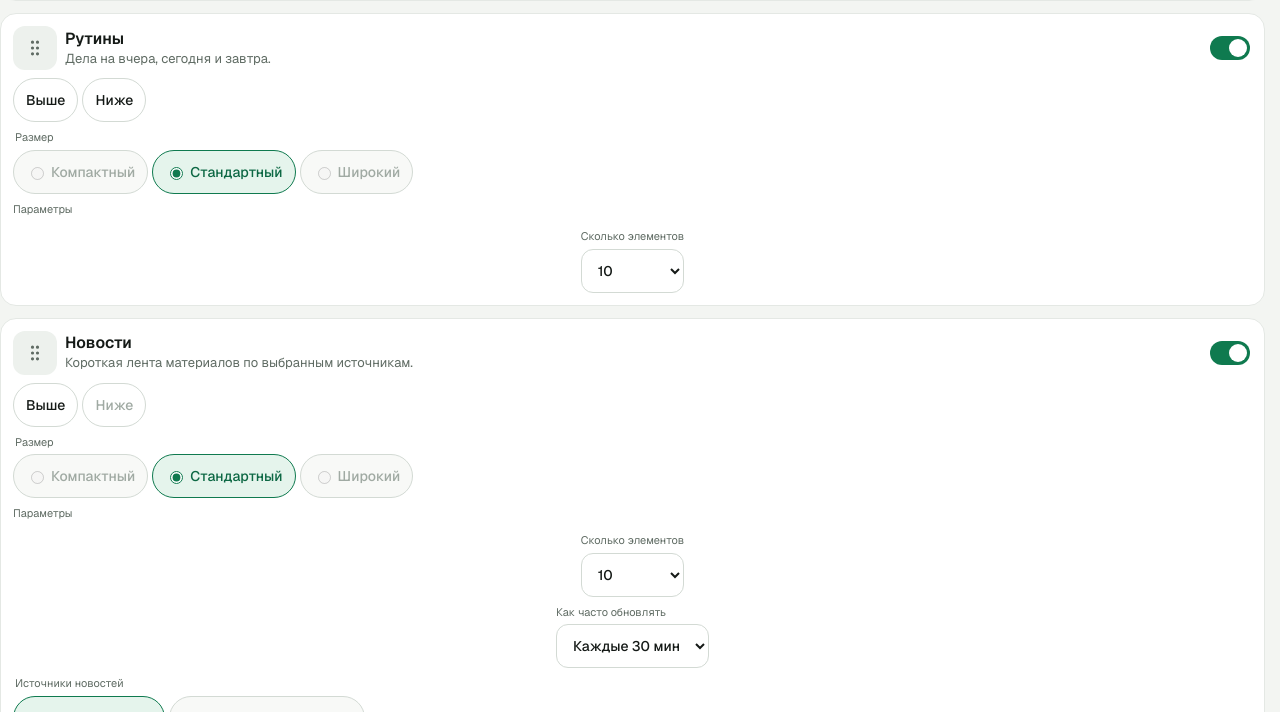
Test: WidgetEditor › возвращает настройки только после подтверждения
(page scrolled)
Click the switch named "Показывать «Новости»": x=1230, y=353 [1210,341,1250,365]
(page scrolled)
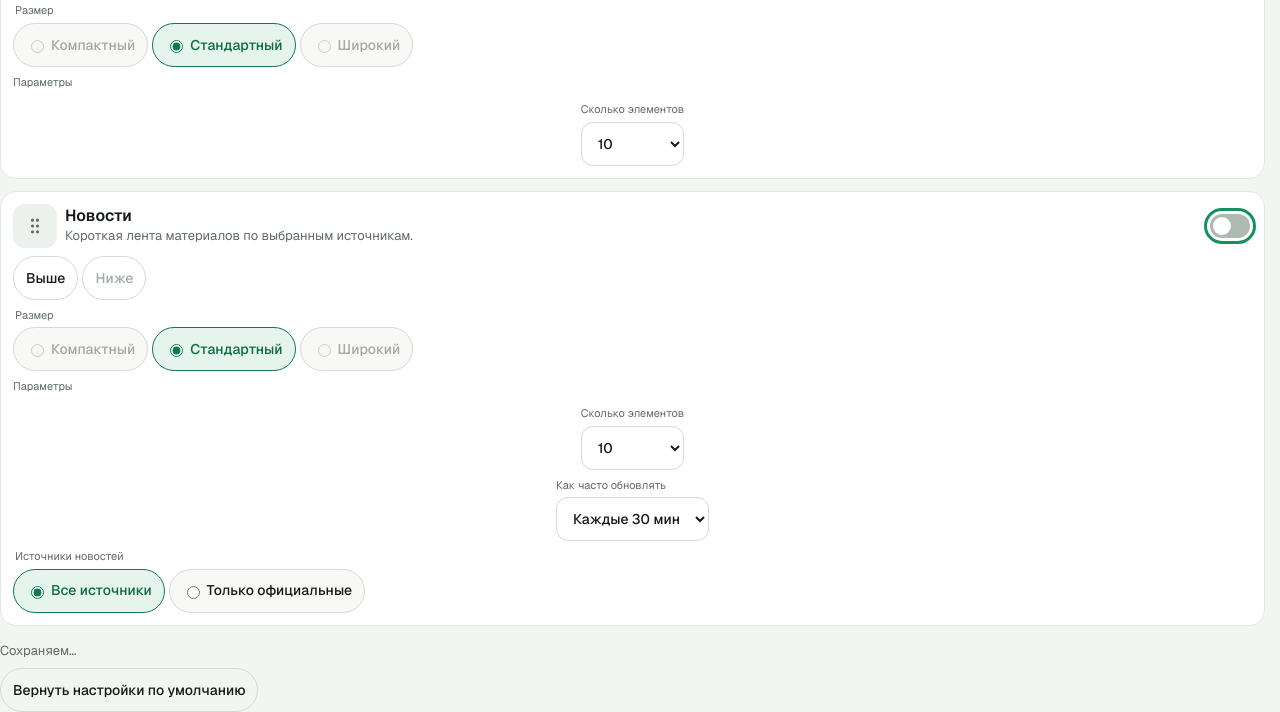
Click the button "Вернуть настройки по умолчанию": x=129, y=690 [0,668,258,711]
(page scrolled)
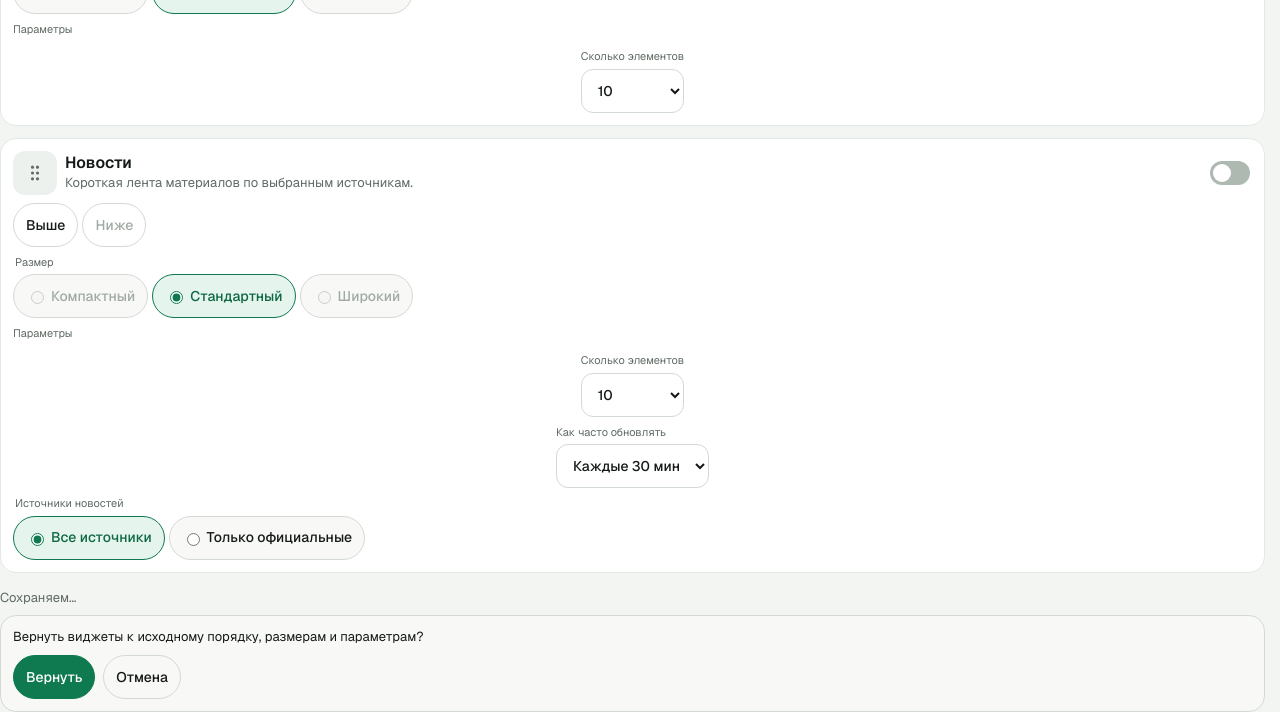
Expected: the switch named "Показывать «Новости»" is not checked, [1210,161,1250,185]
Expected: the dialog shows "Вернуть виджеты к исходному порядку", [13,628,424,645]
Click the button "Вернуть": x=54, y=677 [13,655,95,699]
(page scrolled)
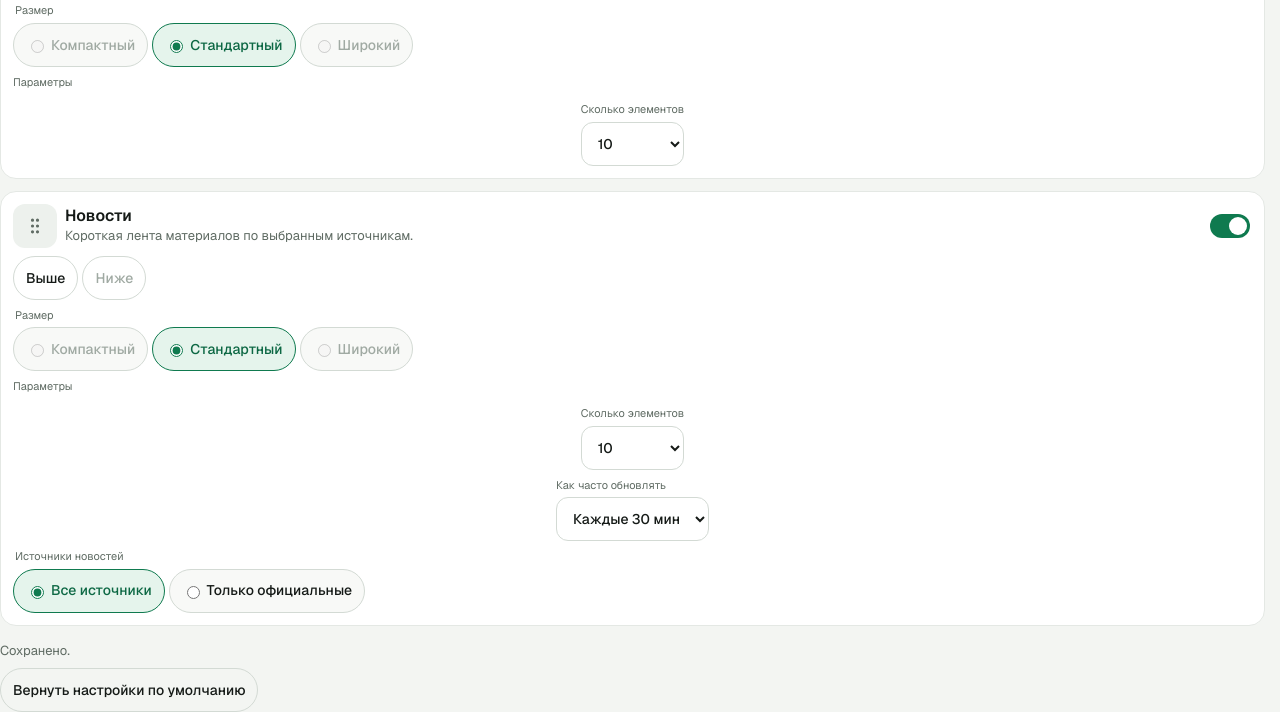
Expected: the switch named "Показывать «Новости»" is checked, [1210,214,1250,238]
Expected: the dialog is gone
